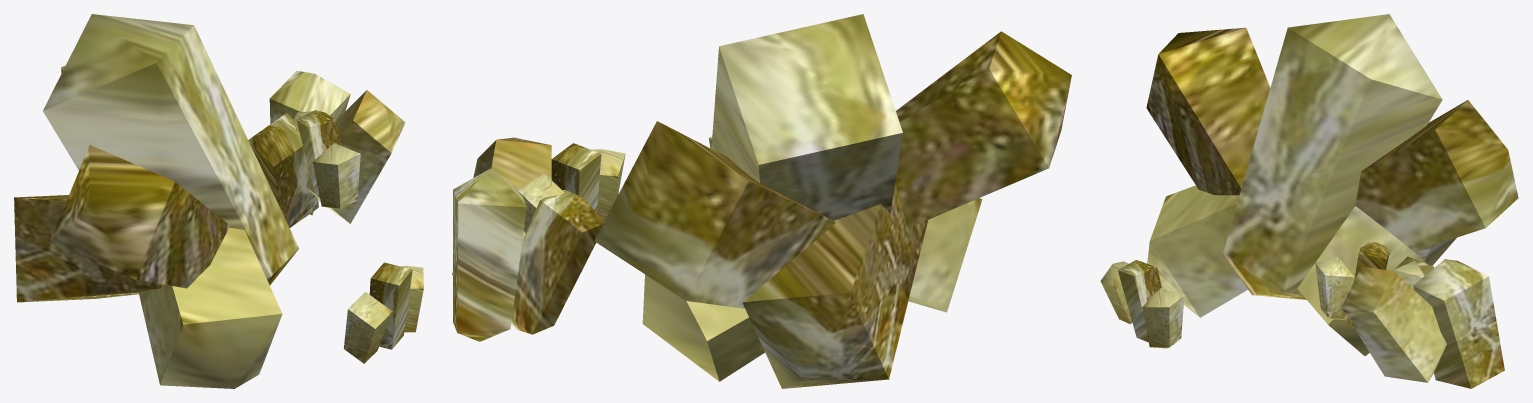
Rendered from dujvshi_1.fbx.
3 views of the same model, side by side, from view 1: azimuth 30°, elevation 25°; view 2: azimuth 150°, elevation 25°; view 3: azimuth 270°, elevation 25° (orthographic). The views are drawn at different scales.
Visible parts, largest first — view 1: polySurface19; view 2: polySurface19; view 3: polySurface19.
Boxes of the visible parts, box(x1,y1,x2,y2) form: polySurface19: box(14, 14, 423, 388); polySurface19: box(452, 14, 1071, 388); polySurface19: box(1100, 14, 1518, 388).
Bounding box in the file's own units: 71.28 × 51.64 × 65.21.
